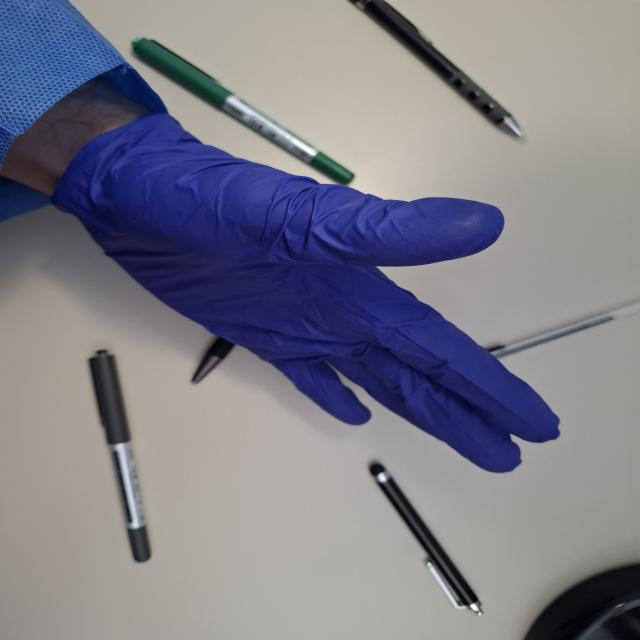glove_on: (50, 104, 567, 476)
